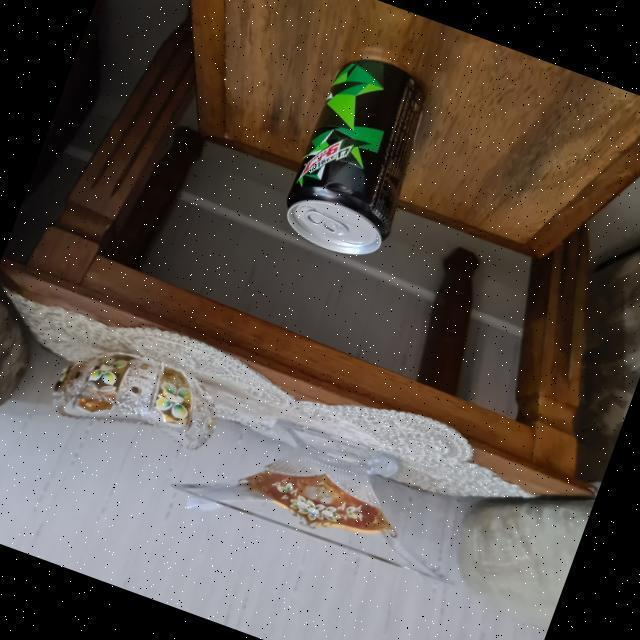can: (269, 39, 444, 274)
